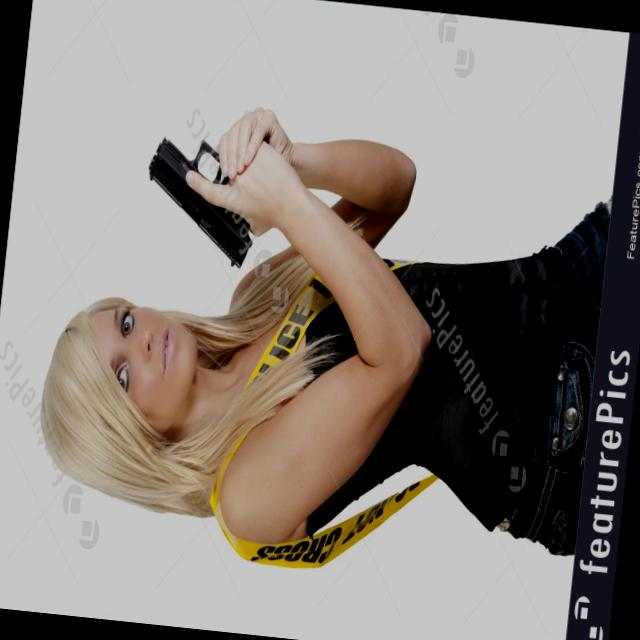handgun: (136, 107, 272, 277)
